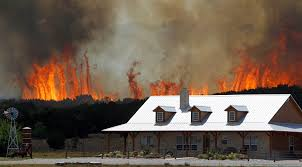fire: (20, 59, 302, 100)
